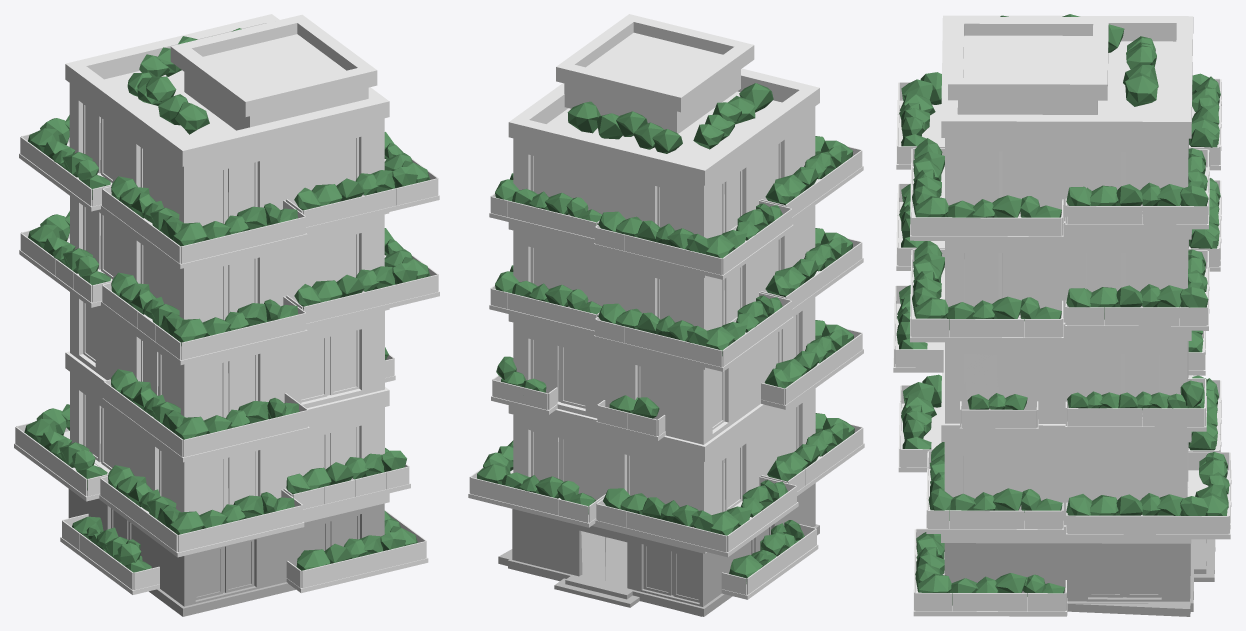
The model's file is openBuilding.fbx.
3 views of the same model, side by side, from view 1: azimuth 30°, elevation 25°; view 2: azimuth 150°, elevation 25°; view 3: azimuth 270°, elevation 25° (orthographic). The views are drawn at different scales.
Visible parts, largest first — view 1: Building; view 2: Building; view 3: Building.
Part boxes in pixels (<box>): Building: <box>14,14,439,616</box>; Building: <box>468,14,864,616</box>; Building: <box>893,14,1231,616</box>.
Size of the model in its own units: 1446 by 2461 by 1441.
